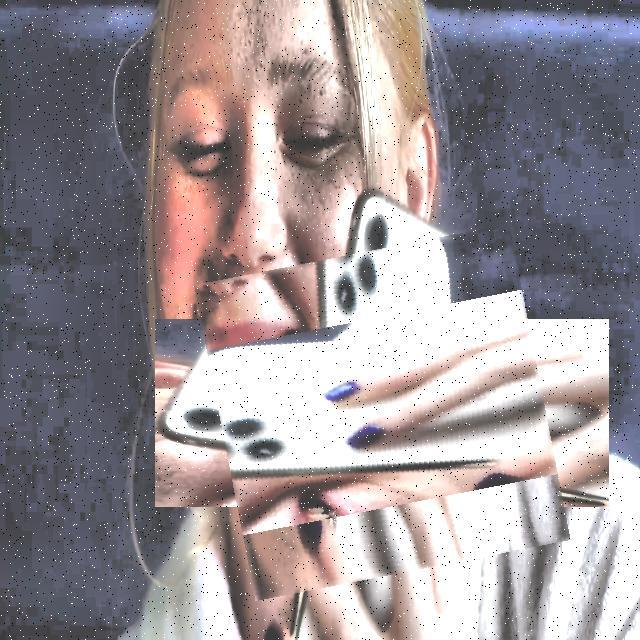Phone: (208, 238, 557, 588)
